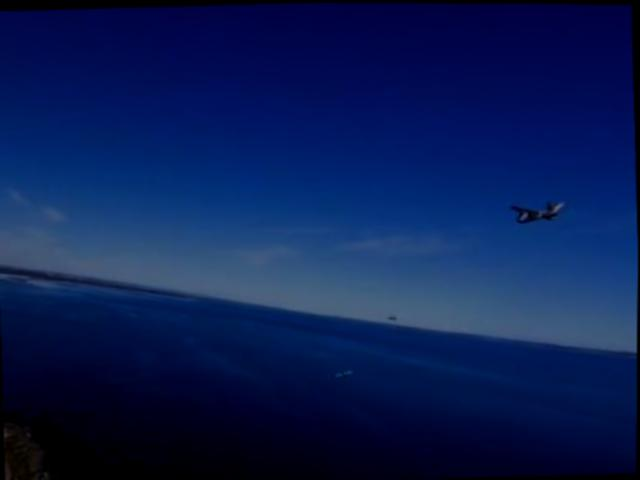uav: (513, 198, 568, 224)
